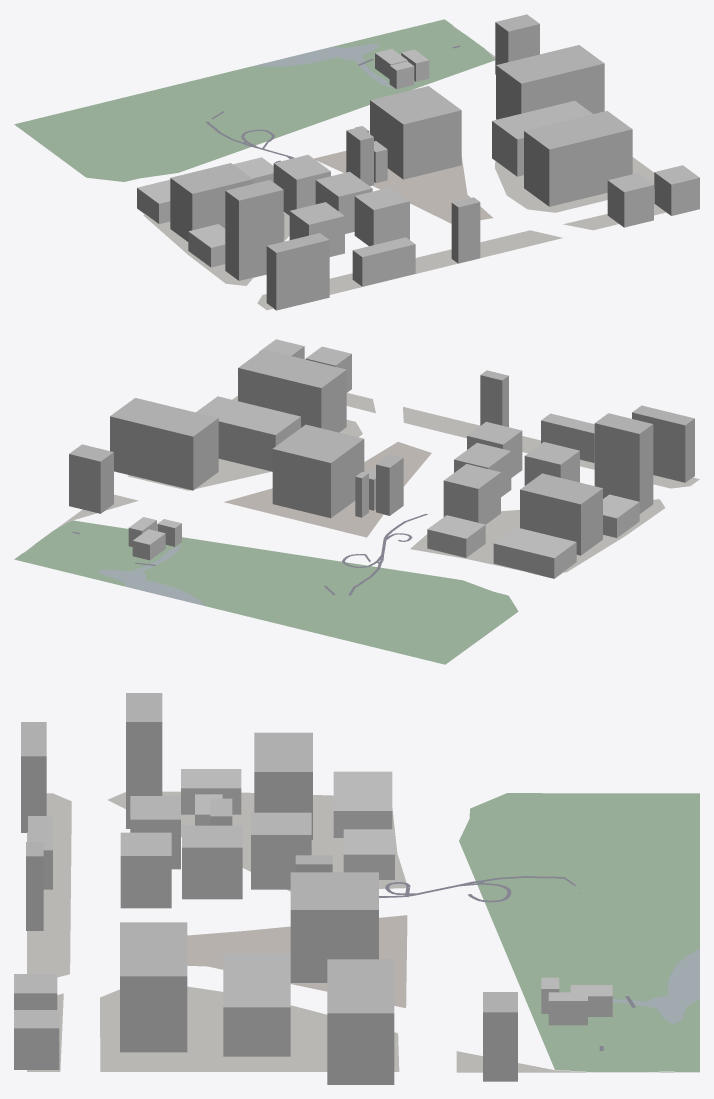
Rendered from 116_77_mid.glb.
The picture shows the model from 3 angles, top to bottom: view 1: azimuth 30°, elevation 25°; view 2: azimuth 150°, elevation 25°; view 3: azimuth 270°, elevation 25°; orthographic projection. The views are drawn at different scales.
Size of the model in its own units: 517 by 87.85 by 510.
